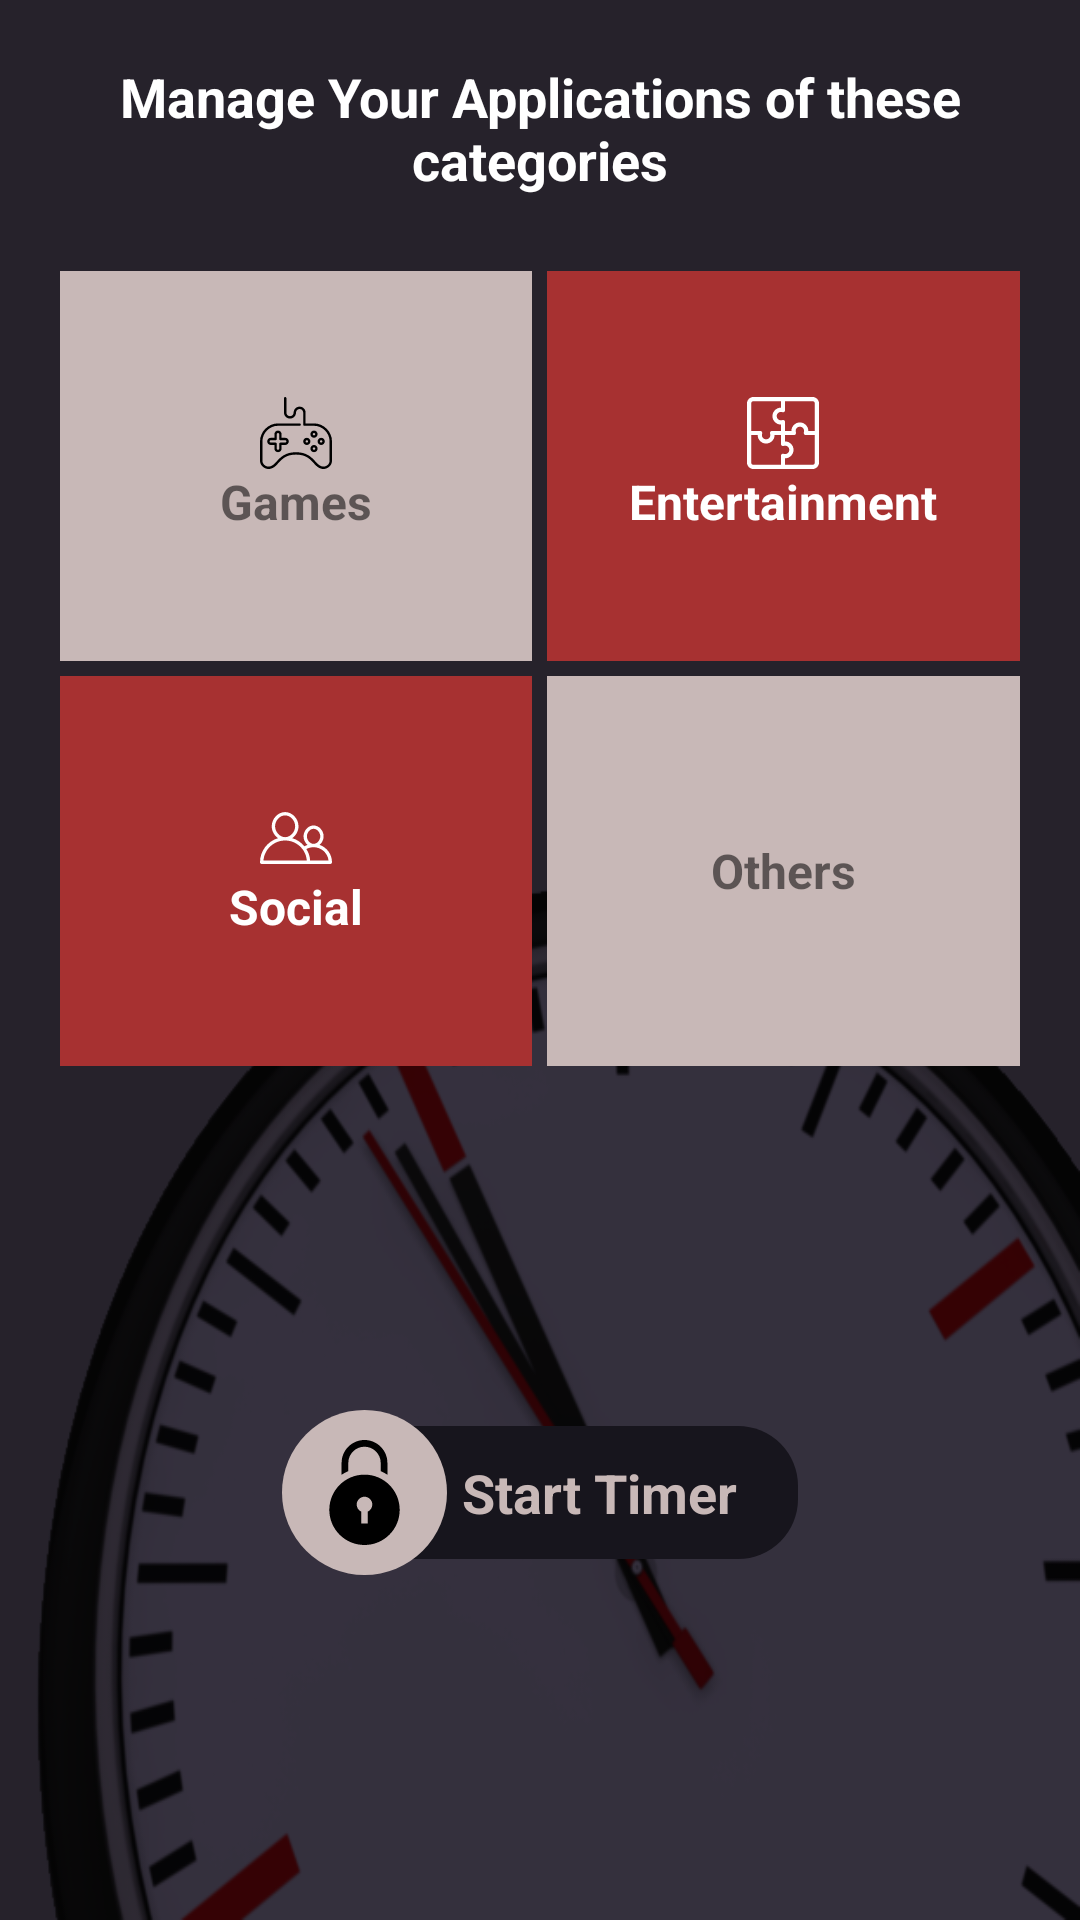

Named icons in this screenshot (1080x1920) and their centers, [x,y]:
gamepad: [296,433]
